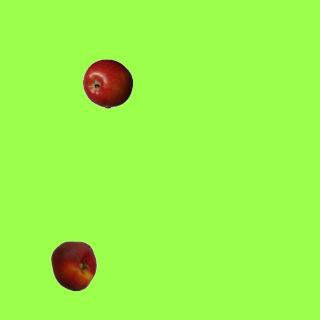Apple Braeburn: (82, 58, 132, 108)
Nectarine Flat: (48, 240, 98, 290)
